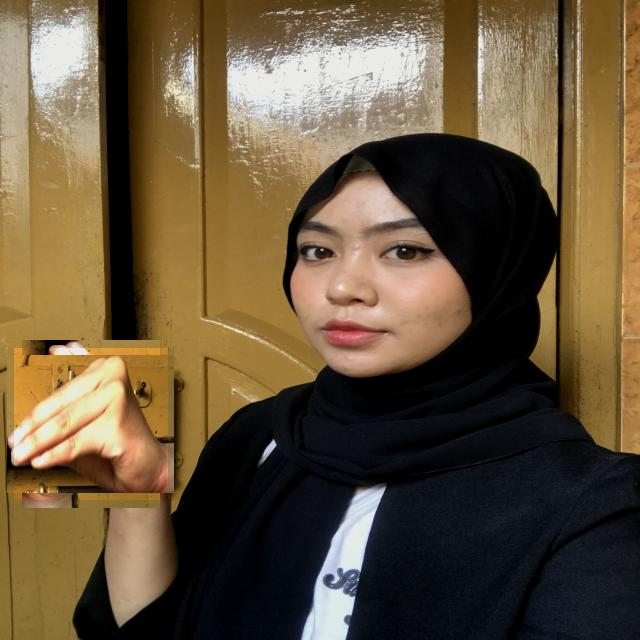kapan: (14, 348, 168, 500)
